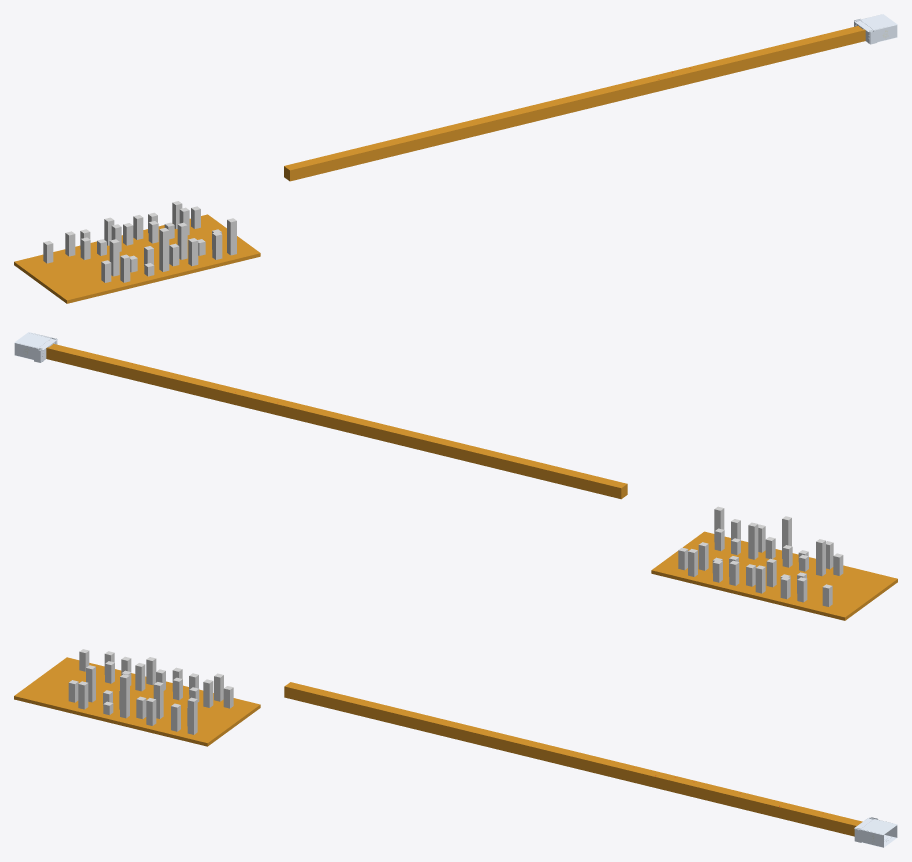
The model's file is testModelnew.glb.
3 views of the same model, one above another, from view 1: azimuth 30°, elevation 25°; view 2: azimuth 150°, elevation 25°; view 3: azimuth 330°, elevation 25° (orthographic).
Visible parts, largest first — view 1: Cube.009, Cube.038; view 2: Cube.009, Cube.038; view 3: Cube.009, Cube.038, Cube.057.
Part boxes in pixels (<box>): Cube.009: <box>284,25,865,181</box>; Cube.038: <box>14,214,260,303</box>; Cube.009: <box>46,343,627,499</box>; Cube.038: <box>651,531,897,620</box>; Cube.009: <box>284,682,862,836</box>; Cube.038: <box>14,657,260,746</box>; Cube.057: <box>120,674,129,718</box>.
Bounding box in the file's own units: 1178 × 76.34 × 127.
